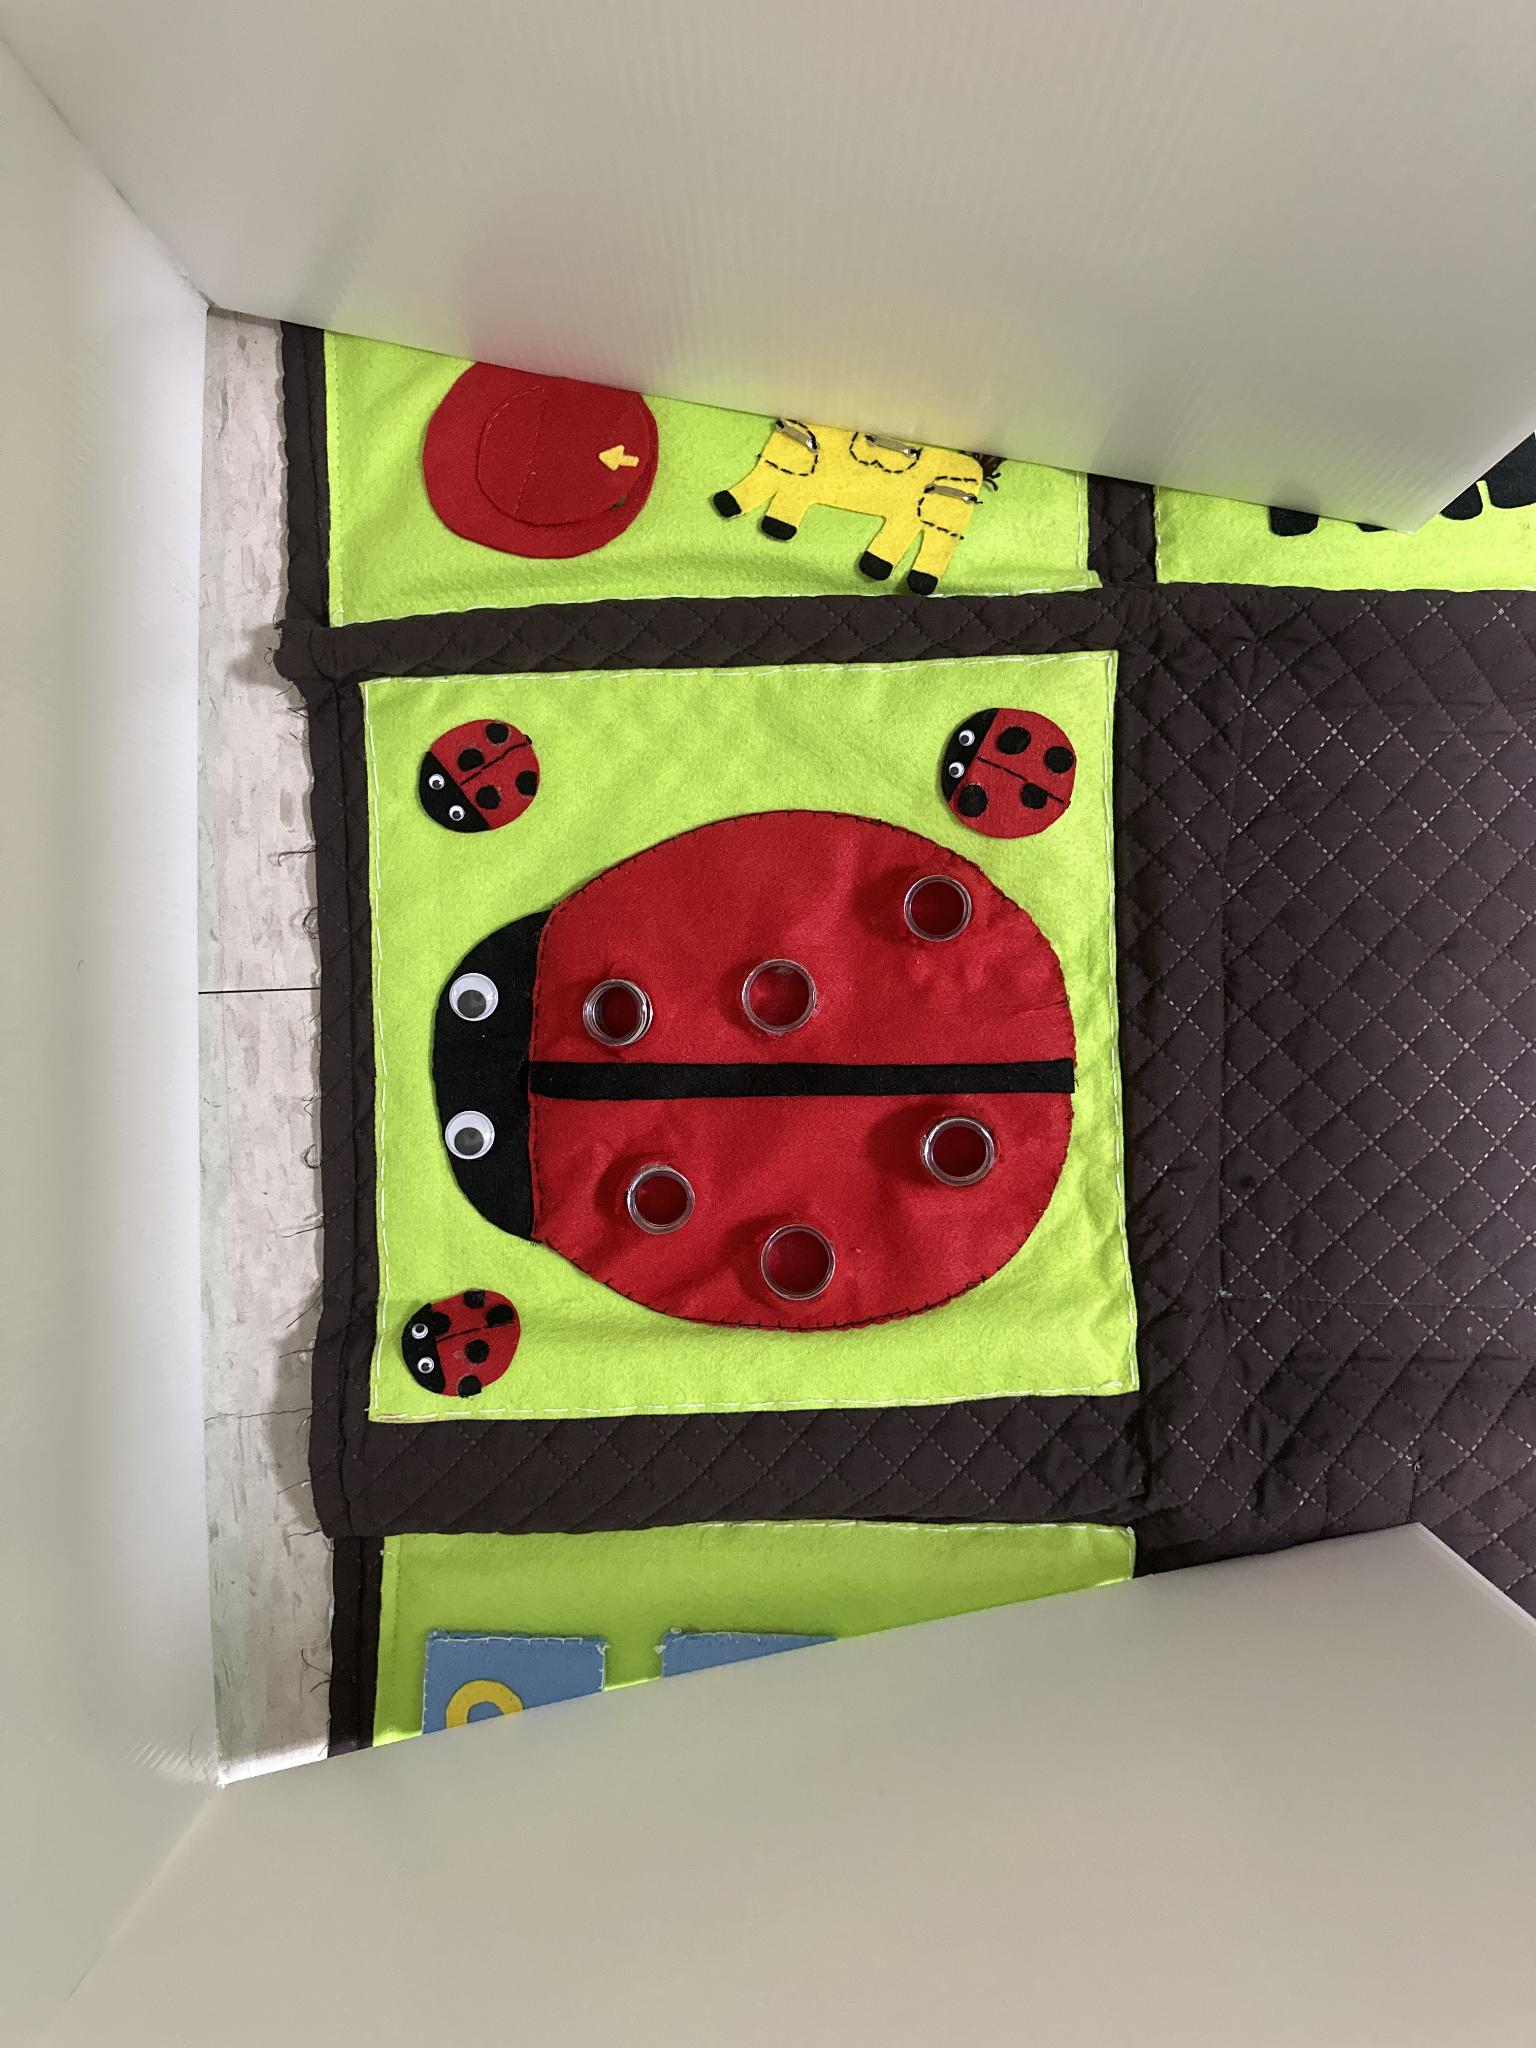hole: (726, 947, 836, 1045), (910, 1103, 1007, 1200), (757, 1221, 844, 1309), (884, 874, 978, 951), (615, 1159, 702, 1240), (584, 956, 662, 1045)
ladybug_case: (432, 793, 1076, 1334)
